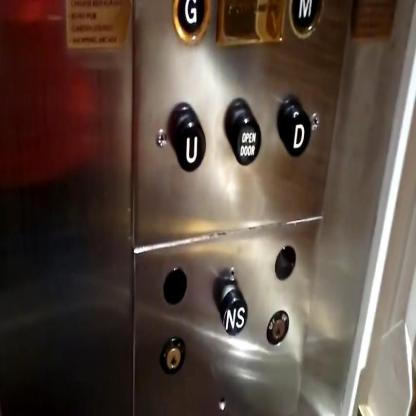D: (279, 91, 310, 164)
NS: (215, 273, 248, 339)
U: (170, 101, 206, 176)
empty: (162, 263, 187, 313), (273, 242, 295, 283)
keyhole: (160, 335, 185, 377), (265, 307, 290, 349)
text: (224, 94, 262, 171)
